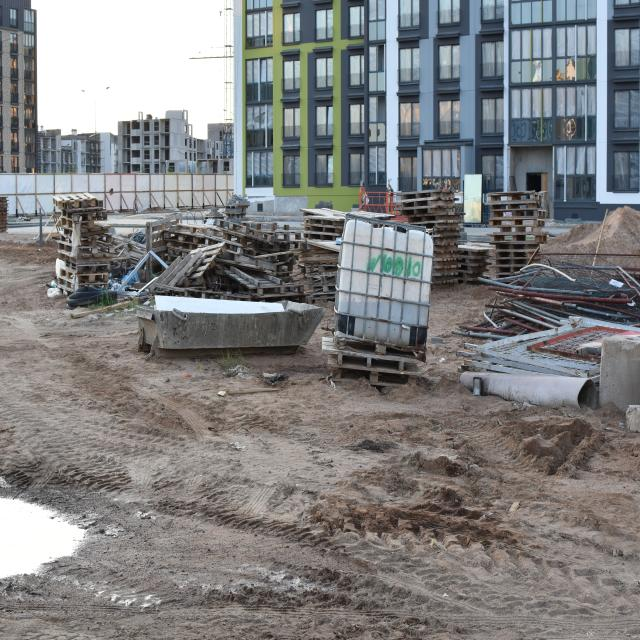entulho: (451, 256, 640, 422), (220, 211, 304, 306), (49, 191, 116, 300), (144, 213, 225, 291), (294, 204, 351, 304), (487, 195, 548, 278), (99, 214, 158, 288), (430, 193, 460, 283), (396, 189, 459, 227), (455, 242, 489, 284), (0, 194, 10, 232)
terra: (542, 206, 640, 272)
